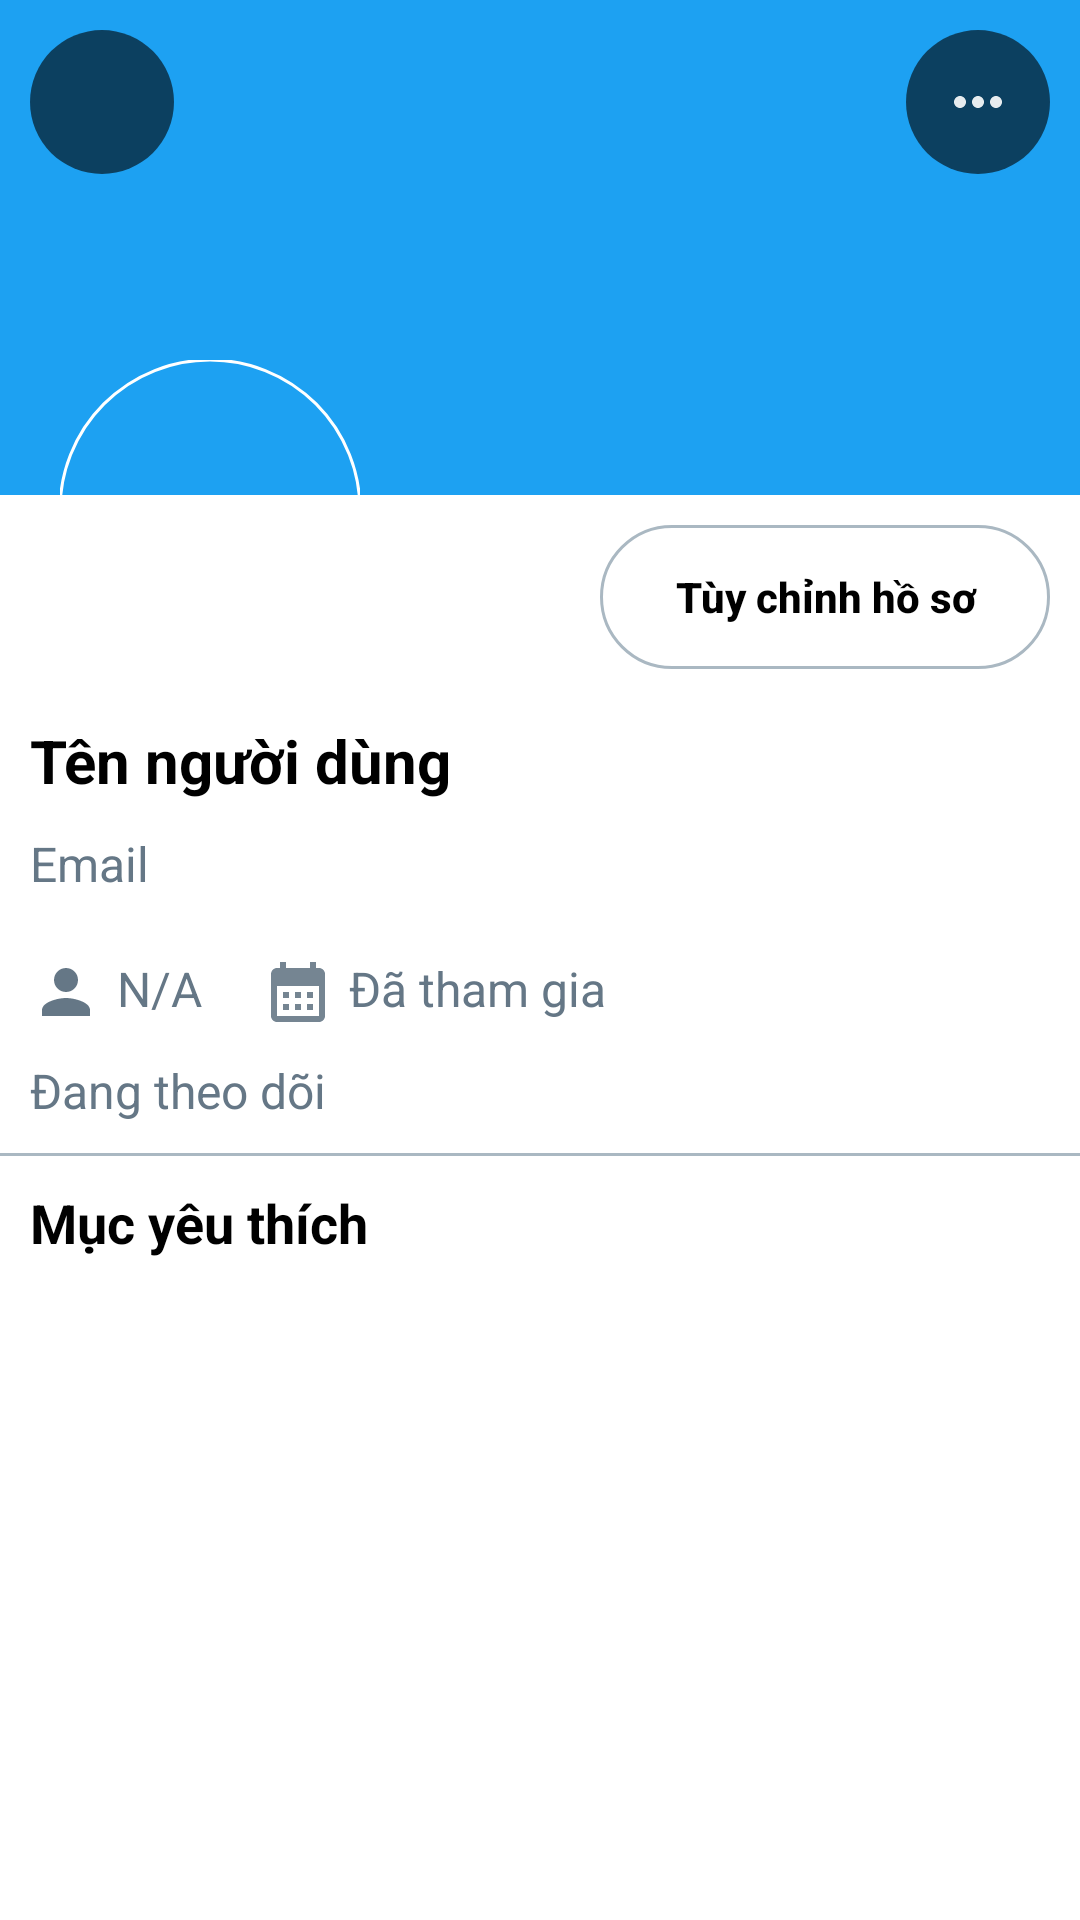

Where icons sit on this 1080px x 1920px app screen, as (x1, y1, x2, y2):
more: (906, 30, 1050, 174)
